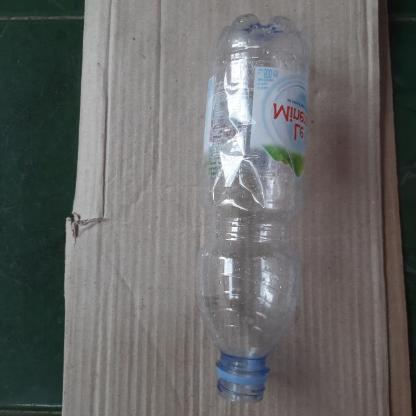Plastic Bottle: (199, 17, 309, 405)
